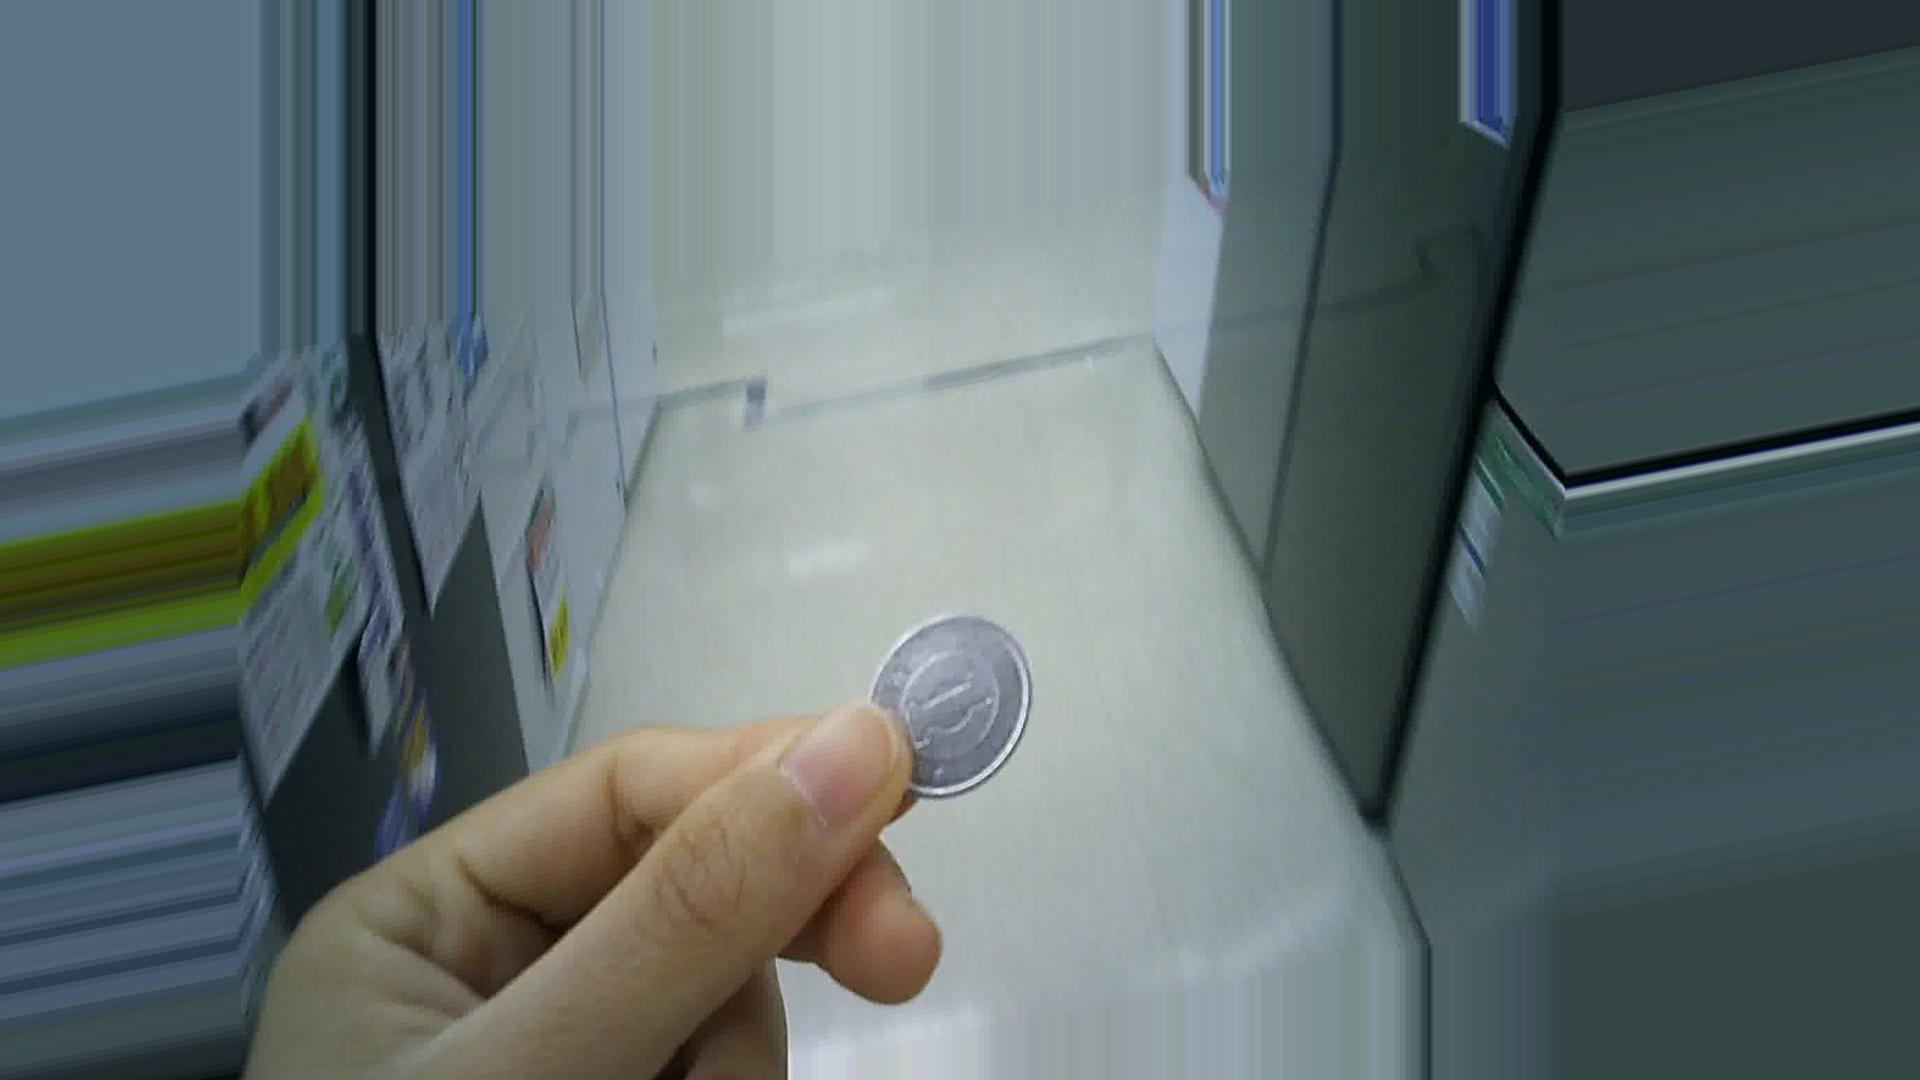1 Yen: (858, 603, 1047, 824)
